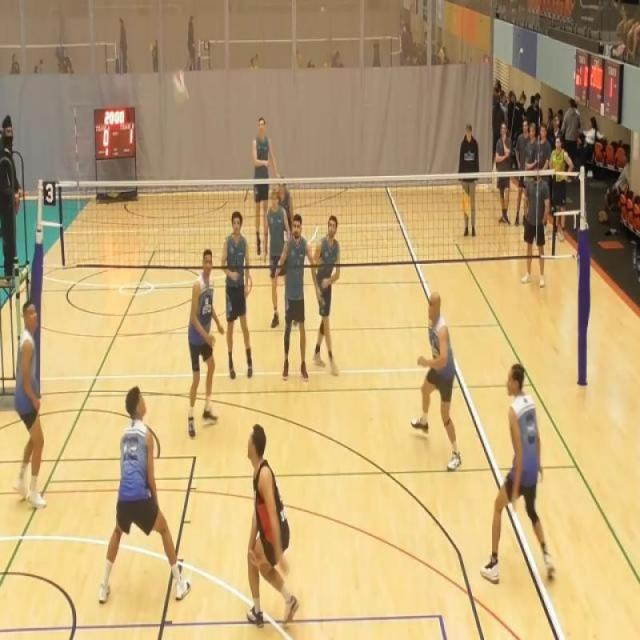volleyball: (170, 68, 190, 107)
